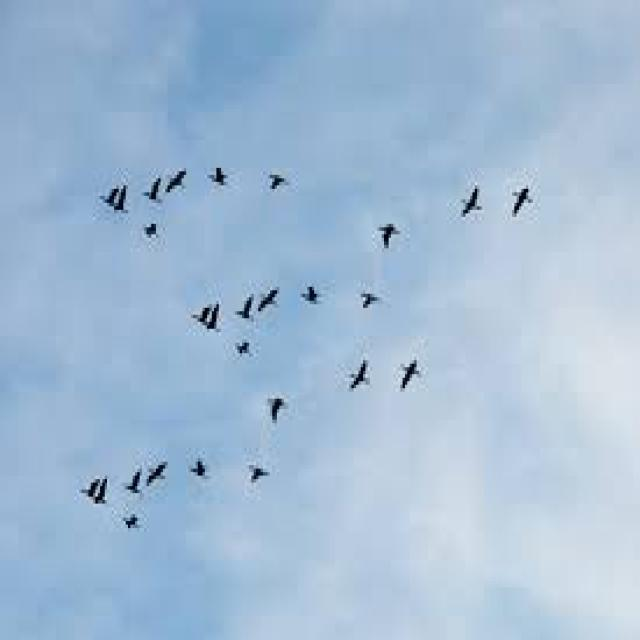bird: (382, 328, 426, 396), (96, 183, 144, 240), (185, 278, 218, 348), (130, 154, 166, 217), (370, 200, 405, 262), (257, 268, 288, 330), (342, 339, 372, 402), (191, 448, 219, 514), (514, 168, 540, 238), (458, 177, 492, 230), (200, 147, 235, 196), (241, 444, 278, 490), (298, 270, 329, 318), (146, 449, 180, 492), (166, 142, 190, 202), (73, 470, 104, 516), (229, 282, 260, 328), (268, 164, 300, 207), (116, 507, 149, 546), (352, 287, 388, 322), (226, 336, 256, 378), (121, 466, 147, 510), (132, 216, 164, 248), (260, 389, 288, 422)
